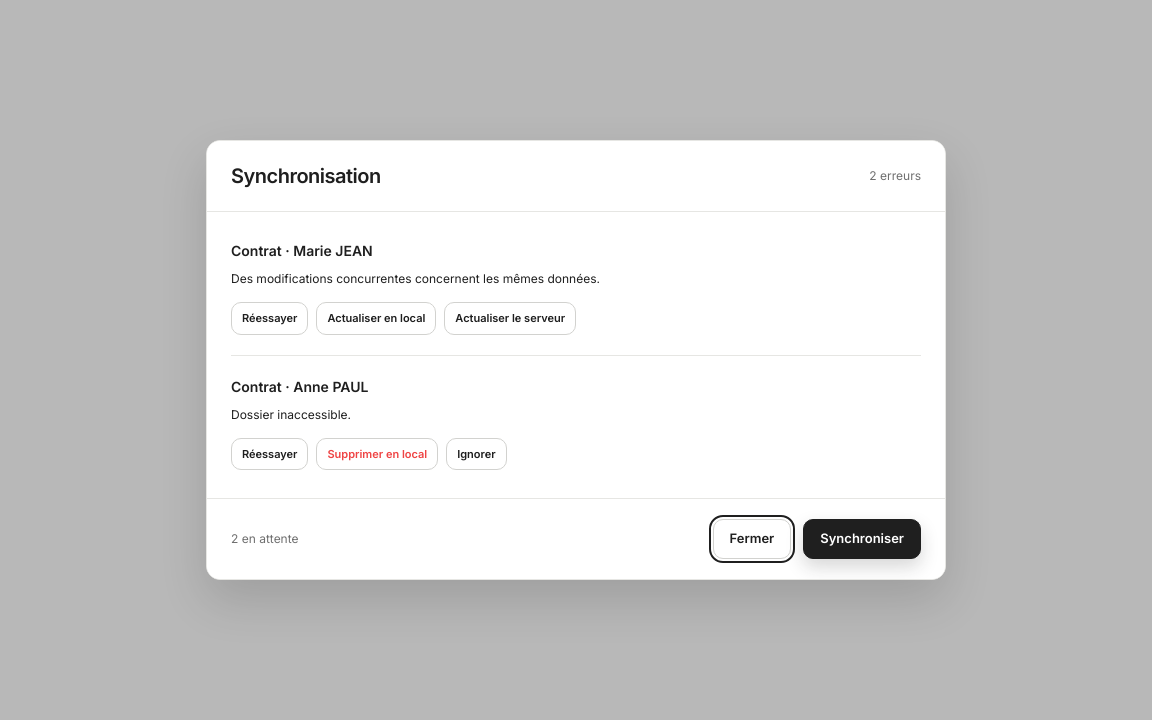
it: resolves the selected snapshot then removes only that error and refreshes displayed data
What coordinates should you click on to do the following:
click the button "Actualiser en local"
I would click on:
 (376, 318)
Its box is [316, 302, 436, 334].
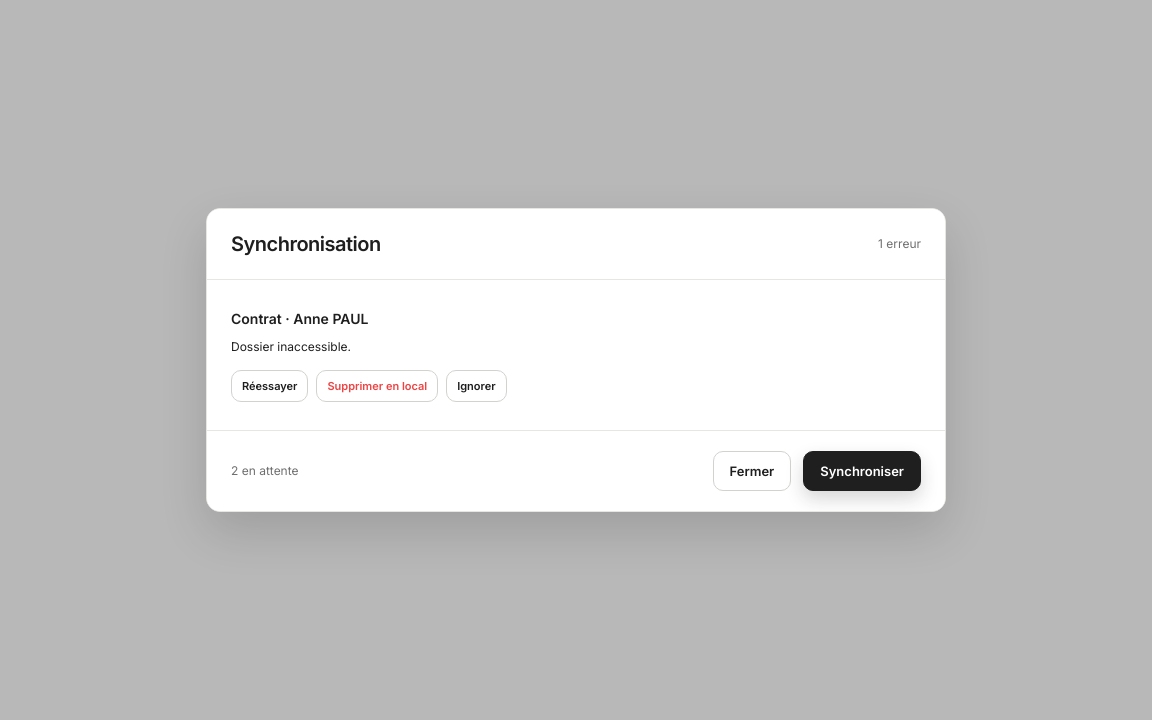
Expected: the element "Contrat · Anne PAUL" is shown, [231, 310, 506, 402]
Now the heading "Contrat · Marie JEAN" is gone
